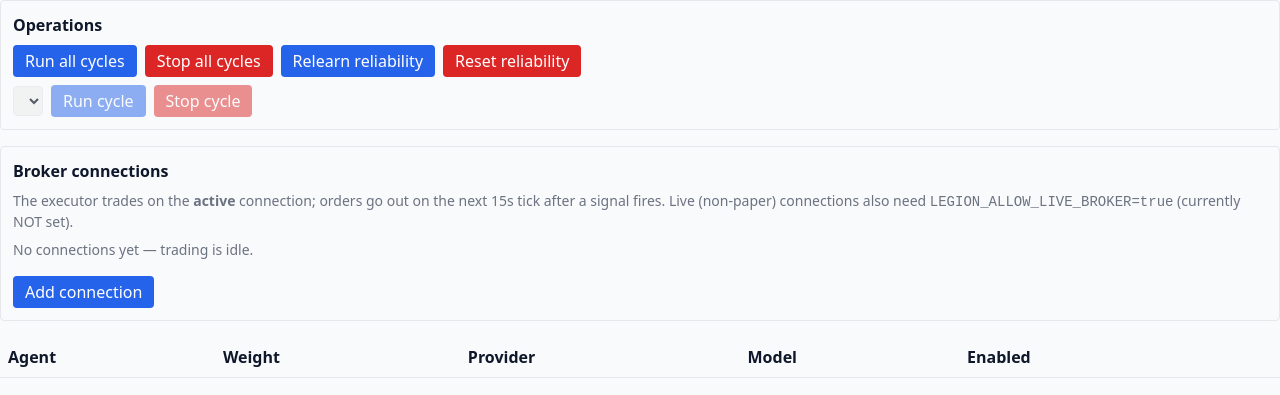
Test: AgentConfig › relearns reliability from the Operations panel and reports the summary
The width and height of the screenshot is (1280, 395).
Click the button with aria-label "relearn-reliability". click: [358, 61]
box: [281,45,435,77]
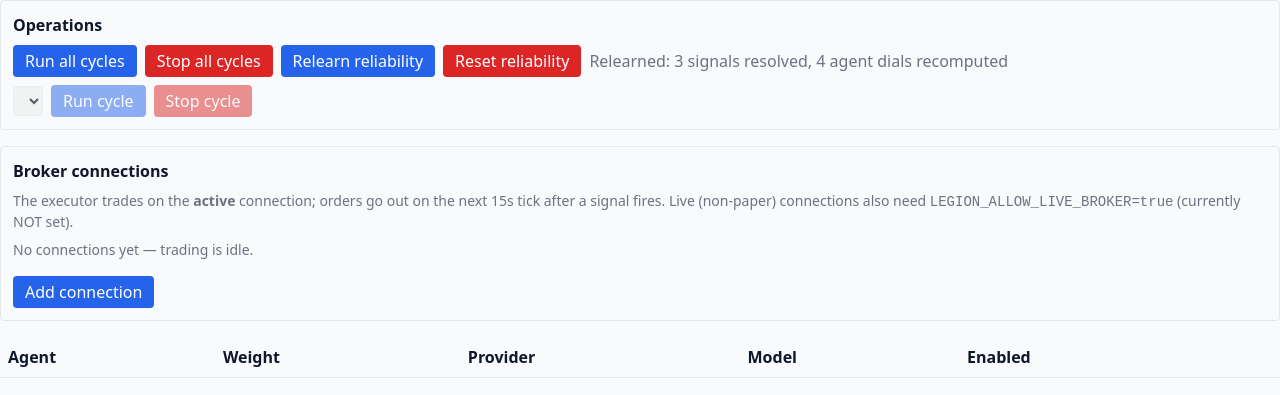
Check: the text "Relearned: 3 signals resolved, 4 agent dials recomputed" is shown, box [589,49,1008,73]
